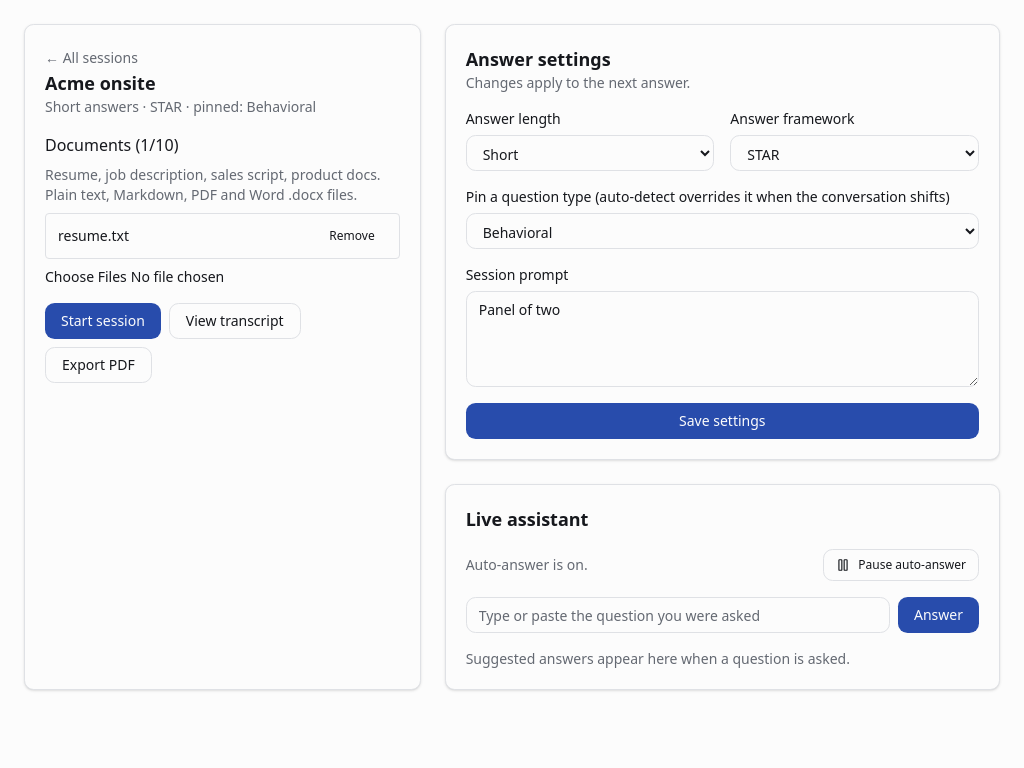
Test: session settings editing (Draft) › shows the backend error
Expected: the heading "Acme onsite" is shown, [45,71,156,95]
What coordinates should you click on to do the following:
click the button "Save settings"
I would click on:
 (722, 421)
Its box is [466,403,979,439].
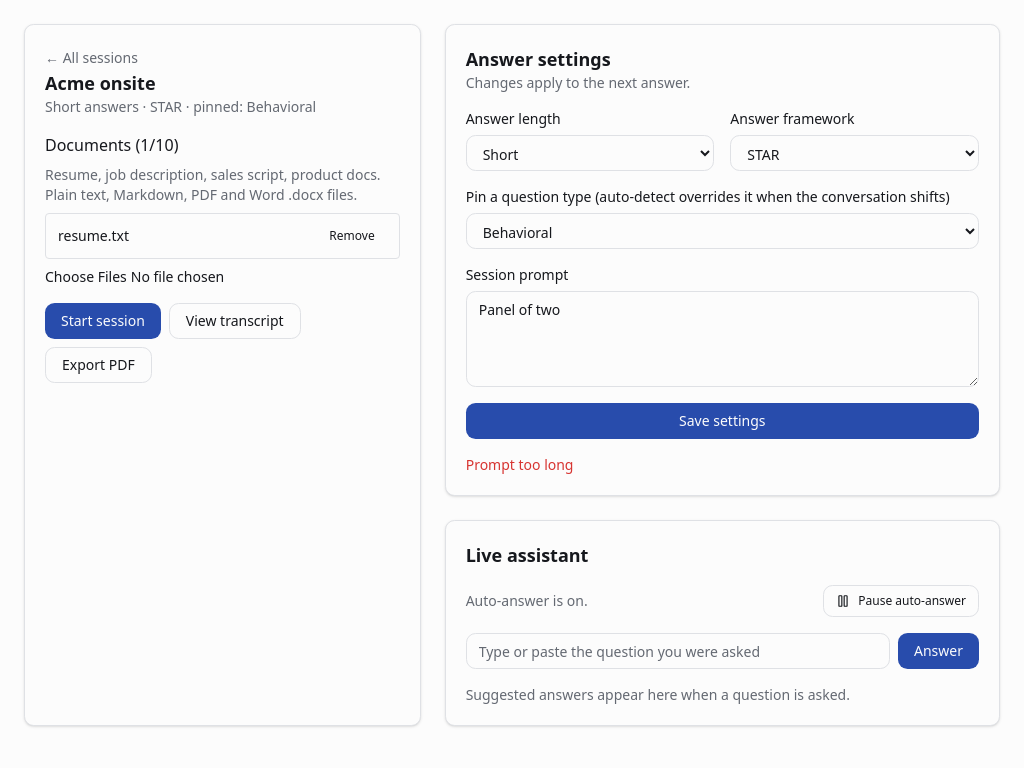
Now the message reads "Prompt too long", box [466,455,574,474]
